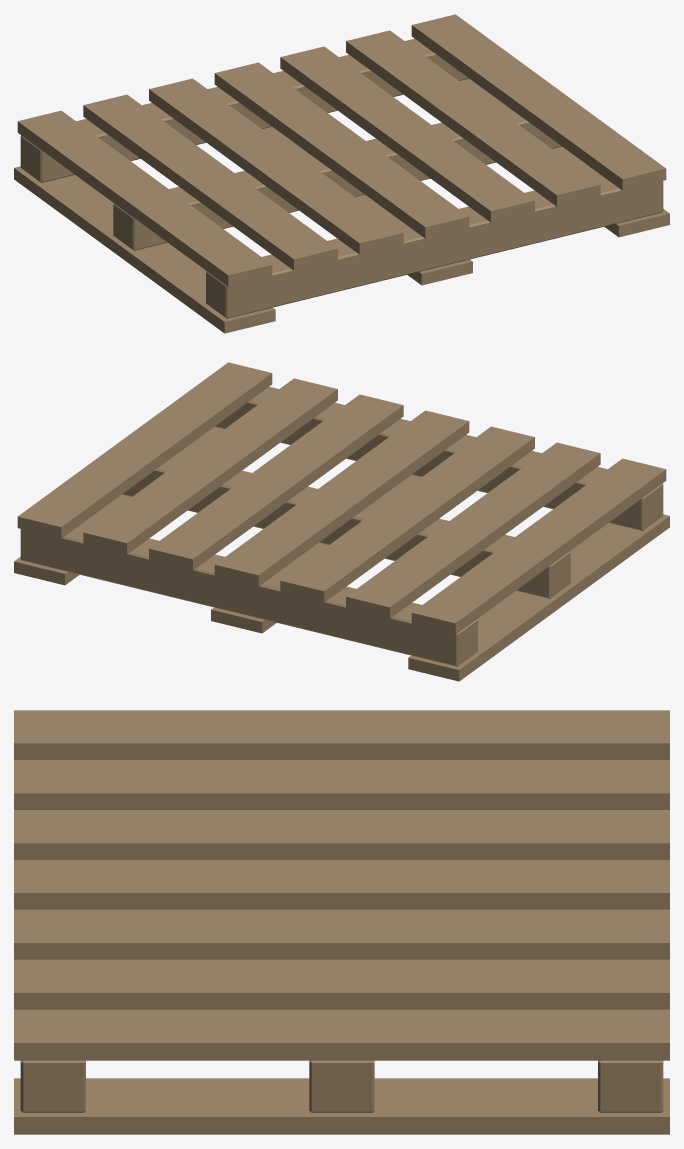
The model's file is pallet.glb.
3 renders of one model, top to bottom at view 1: azimuth 30°, elevation 25°; view 2: azimuth 150°, elevation 25°; view 3: azimuth 270°, elevation 25°, orthographic. The views are drawn at different scales.
Visible parts, largest first — view 1: pallet__pallet__wood; view 2: pallet__pallet__wood; view 3: pallet__pallet__wood.
Boxes of the visible parts, left/top/right/bottom form: pallet__pallet__wood: left=14, top=14, right=669, bottom=333; pallet__pallet__wood: left=14, top=362, right=669, bottom=681; pallet__pallet__wood: left=14, top=710, right=669, bottom=1134.
Size of the model in its own units: 1.22 by 0.15 by 1.
